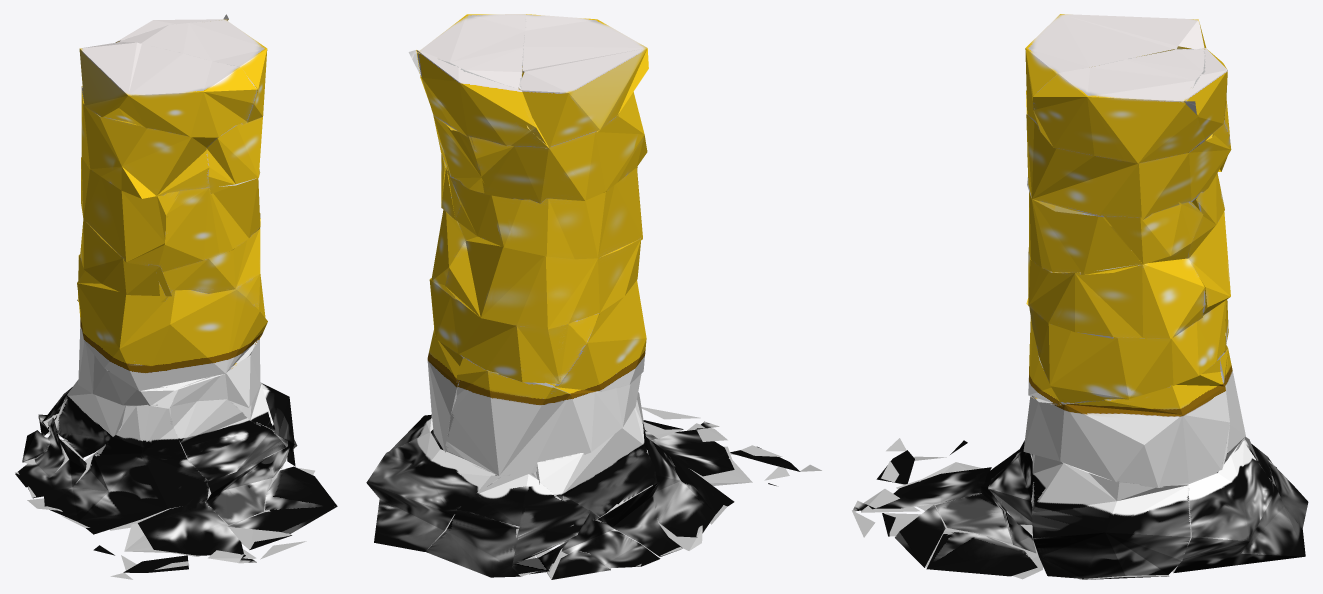
File: cigarette_shorter4c.glb
The picture shows the model from 3 angles, left to right: view 1: azimuth 30°, elevation 25°; view 2: azimuth 150°, elevation 25°; view 3: azimuth 270°, elevation 25°; orthographic projection. The views are drawn at different scales.
Visible parts, largest first — view 1: tripo_node_c5ac0d31-c7cd-43ed-b644-0830fcdc9b5b; view 2: tripo_node_c5ac0d31-c7cd-43ed-b644-0830fcdc9b5b; view 3: tripo_node_c5ac0d31-c7cd-43ed-b644-0830fcdc9b5b.
Boxes of the visible parts, left/top/right/bottom form: tripo_node_c5ac0d31-c7cd-43ed-b644-0830fcdc9b5b: left=15, top=14, right=337, bottom=579; tripo_node_c5ac0d31-c7cd-43ed-b644-0830fcdc9b5b: left=366, top=14, right=821, bottom=579; tripo_node_c5ac0d31-c7cd-43ed-b644-0830fcdc9b5b: left=852, top=14, right=1308, bottom=579.
Size of the model in its own units: 0.3524 by 0.5107 by 0.4383.
Materials: 1 (1 with a texture image).
